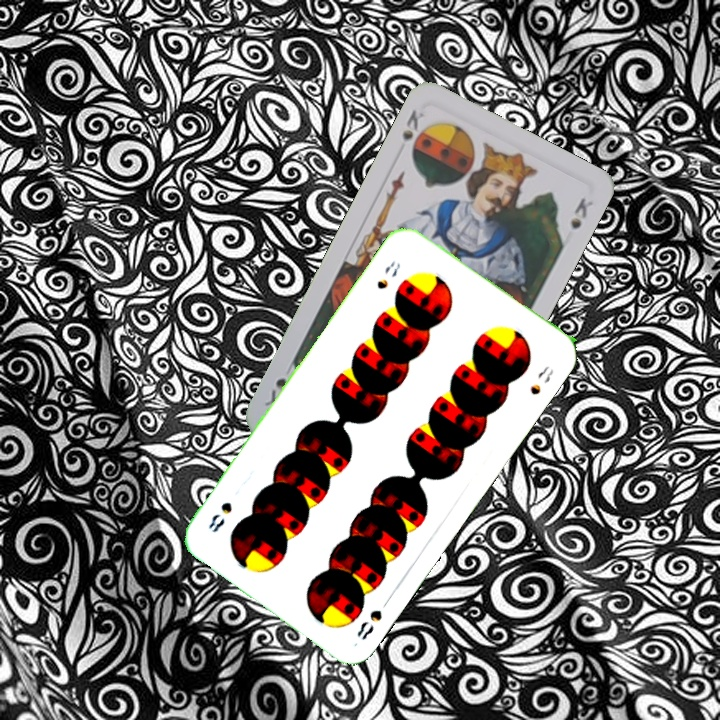S8: (352, 593, 394, 643), (372, 257, 403, 292)
SK: (392, 105, 431, 160)
